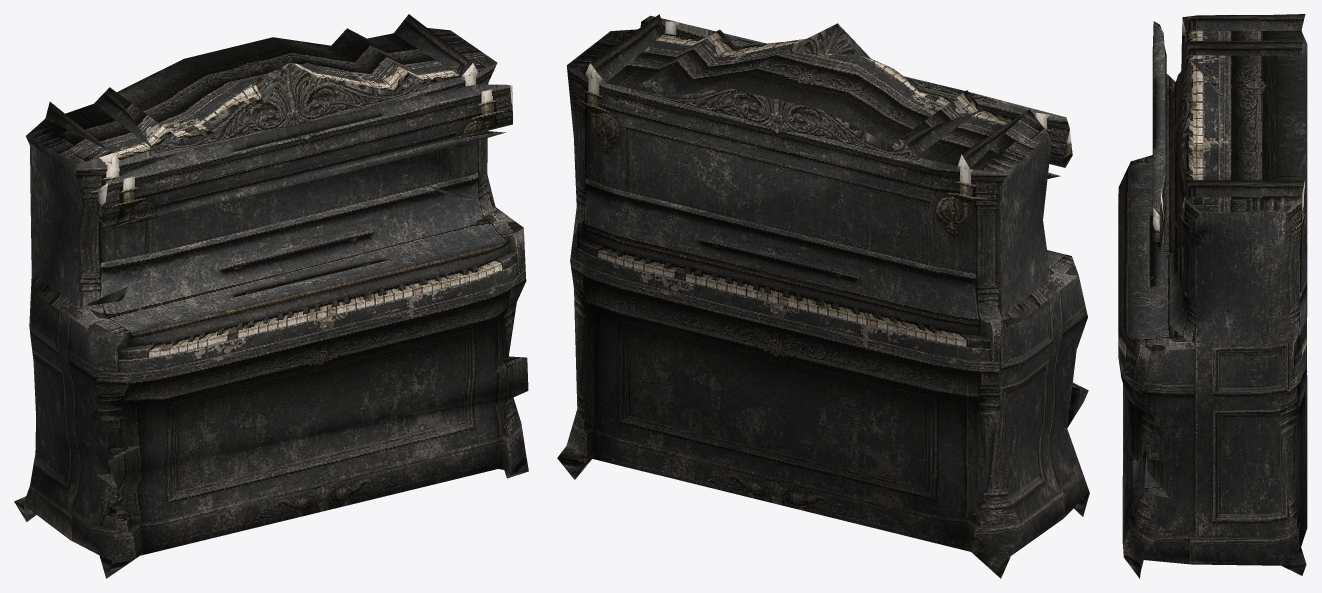
The model's file is piano_med.glb.
3 renders of one model, left to right at view 1: azimuth 30°, elevation 25°; view 2: azimuth 150°, elevation 25°; view 3: azimuth 270°, elevation 25°, orthographic. The views are drawn at different scales.
Visible parts, largest first — view 1: piano_med; view 2: piano_med; view 3: piano_med.
Part boxes in pixels (x1,y1,x2,y2): piano_med: (14, 14, 528, 578); piano_med: (557, 14, 1089, 578); piano_med: (1118, 14, 1307, 578).
Bounding box in the file's own units: 1.49 × 1.45 × 0.5872.
1 material, 1 textured.
